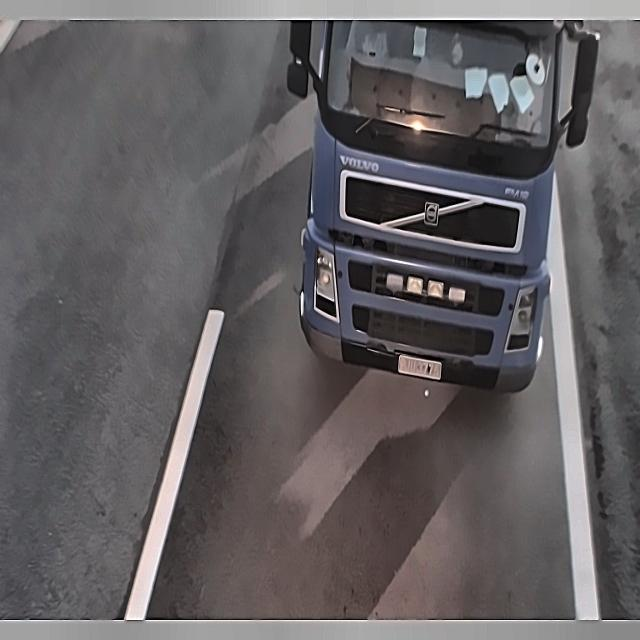car: (394, 348, 450, 386)
